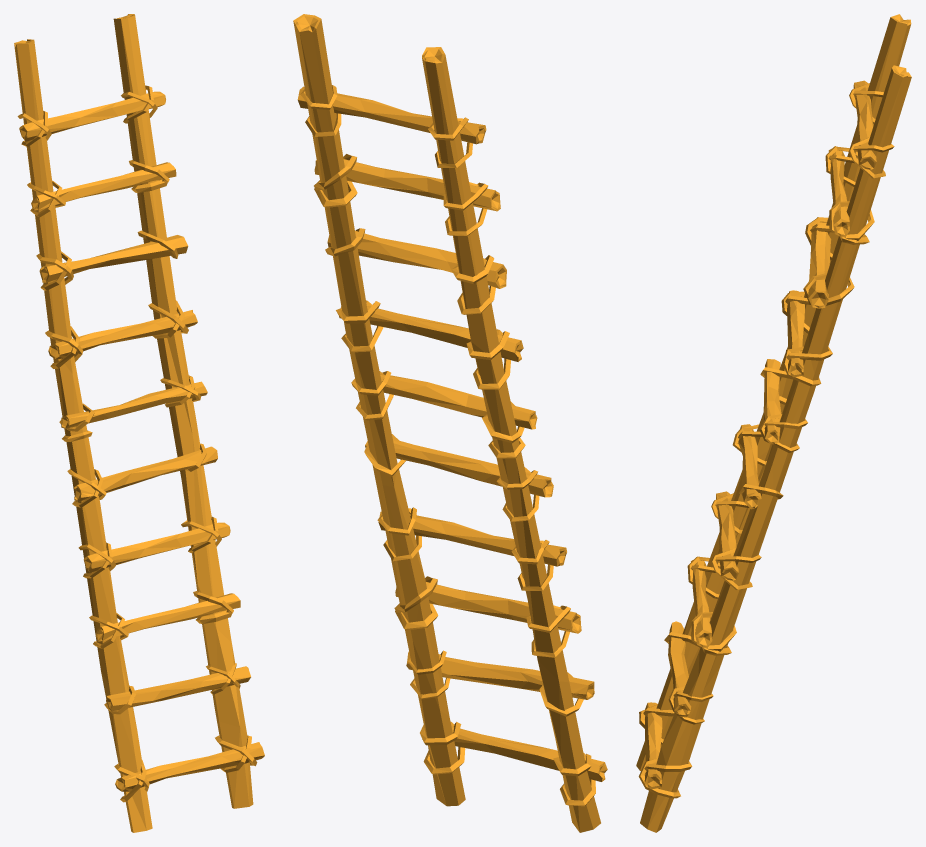
Rendered from SM_Palisade_Gallery_Ledder_3m_A.fbx.
3 renders of one model, left to right at view 1: azimuth 30°, elevation 25°; view 2: azimuth 150°, elevation 25°; view 3: azimuth 270°, elevation 25°, orthographic. The views are drawn at different scales.
Parts seen in each view (by area): view 1: palisade-gallery-ledder-3m-a; view 2: palisade-gallery-ledder-3m-a; view 3: palisade-gallery-ledder-3m-a.
Part boxes in pixels (bbox=[...]): palisade-gallery-ledder-3m-a: bbox=[14, 14, 264, 832]; palisade-gallery-ledder-3m-a: bbox=[293, 14, 607, 832]; palisade-gallery-ledder-3m-a: bbox=[636, 14, 911, 832].
Bounding box in the file's own units: 0.7407 × 3.47 × 1.14.
